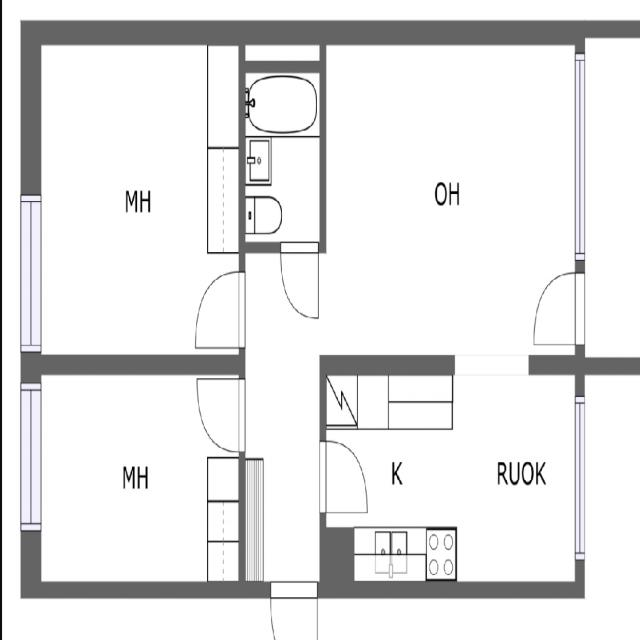door: (196, 273, 246, 346), (534, 273, 585, 344), (197, 379, 246, 452), (320, 442, 368, 512), (280, 240, 318, 318)
